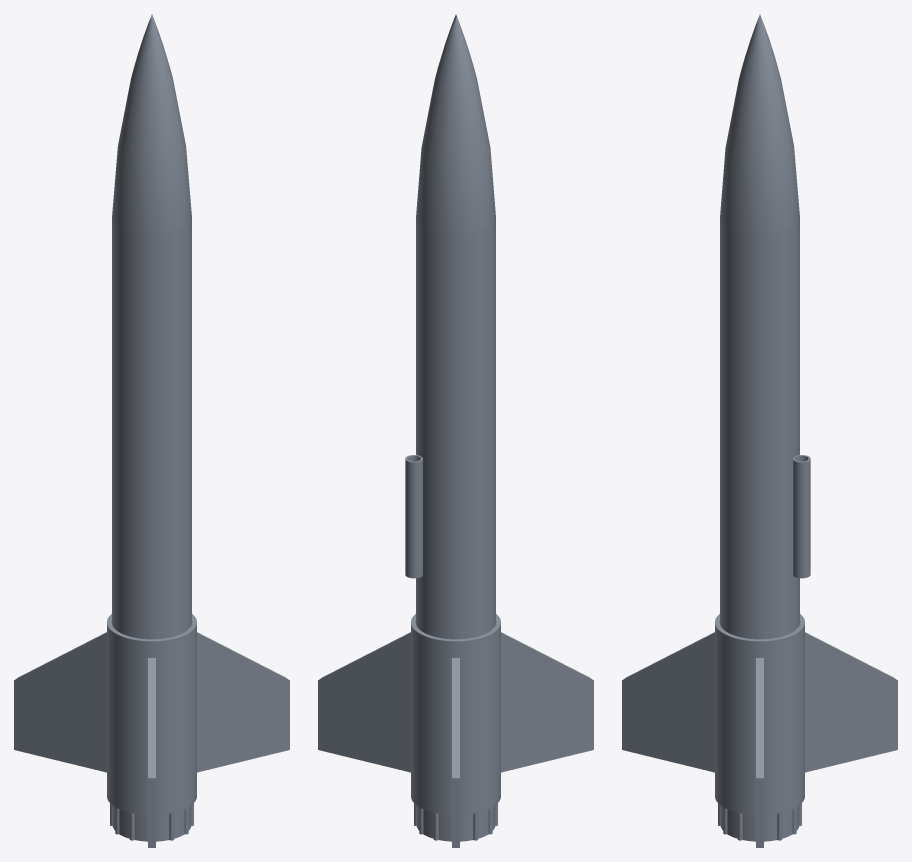
Rendered from step-5-preview-1.glb.
The picture shows the model from 3 angles, left to right: view 1: azimuth 30°, elevation 25°; view 2: azimuth 150°, elevation 25°; view 3: azimuth 270°, elevation 25°; orthographic projection.
Visible parts, largest first — view 1: preview_0, preview_12, preview_8, preview_11, preview_18, preview_23, preview_27; view 2: preview_0, preview_12, preview_8, preview_13, preview_24, preview_28, preview_19, preview_26; view 3: preview_0, preview_12, preview_8, preview_20, preview_22, preview_28, preview_14, preview_10.
Part boxes in pixels (<box>): preview_0: <box>112,218,191,639</box>; preview_12: <box>107,624,196,814</box>; preview_8: <box>112,14,191,233</box>; preview_11: <box>197,633,289,772</box>; preview_18: <box>14,633,106,772</box>; preview_23: <box>148,657,155,778</box>; preview_27: <box>148,778,155,847</box>; preview_0: <box>416,218,495,639</box>; preview_12: <box>411,624,500,814</box>; preview_8: <box>416,14,495,233</box>; preview_13: <box>318,633,410,772</box>; preview_24: <box>501,633,593,772</box>; preview_28: <box>405,460,422,578</box>; preview_19: <box>452,657,459,778</box>; preview_26: <box>452,778,459,847</box>; preview_0: <box>720,218,799,639</box>; preview_12: <box>715,624,804,814</box>; preview_8: <box>720,14,799,233</box>; preview_20: <box>805,633,897,772</box>; preview_22: <box>622,633,714,772</box>; preview_28: <box>793,460,810,578</box>; preview_14: <box>756,657,763,778</box>; preview_10: <box>756,778,763,847</box>.
Size of the model in its own units: 0.0747 by 0.28 by 0.0863.
